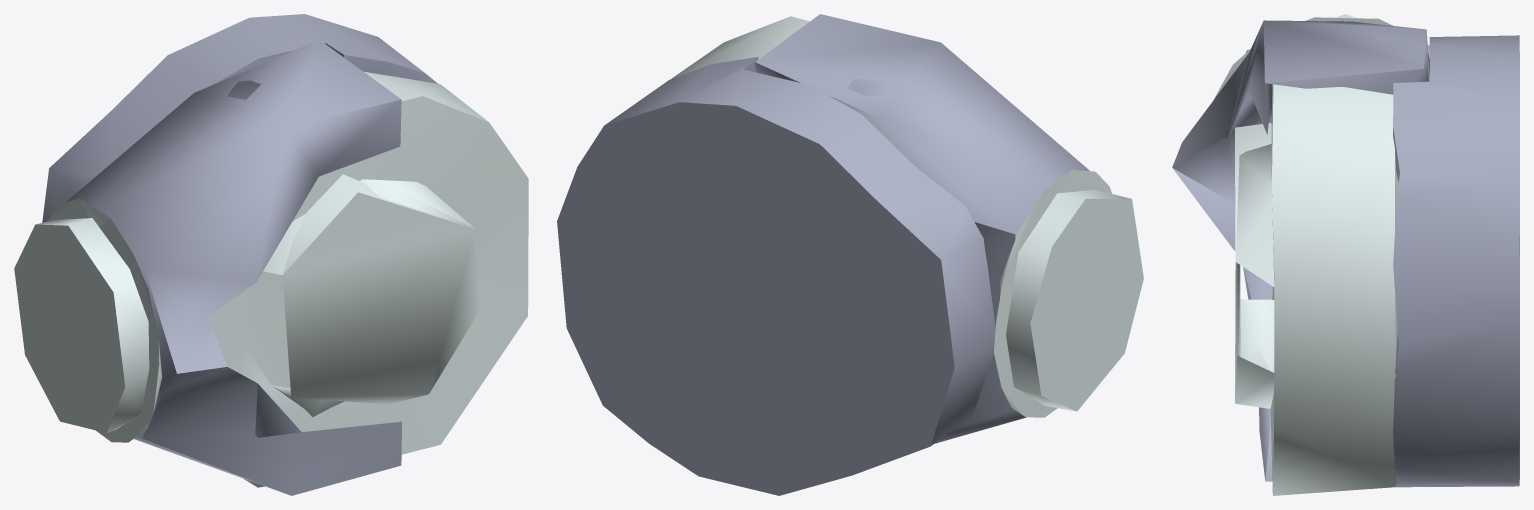
File: hip_dae.dae
The picture shows the model from 3 angles, left to right: view 1: azimuth 30°, elevation 25°; view 2: azimuth 150°, elevation 25°; view 3: azimuth 270°, elevation 25°; orthographic projection. The views are drawn at different scales.
Parts seen in each view (by area): view 1: hip_dae; view 2: hip_dae; view 3: hip_dae.
Boxes of the visible parts, bbox=[...] form: hip_dae: bbox=[14, 14, 528, 495]; hip_dae: bbox=[557, 14, 1143, 495]; hip_dae: bbox=[1172, 14, 1519, 495].
Size of the model in its own units: 0.1181 by 0.0746 by 0.0973.
